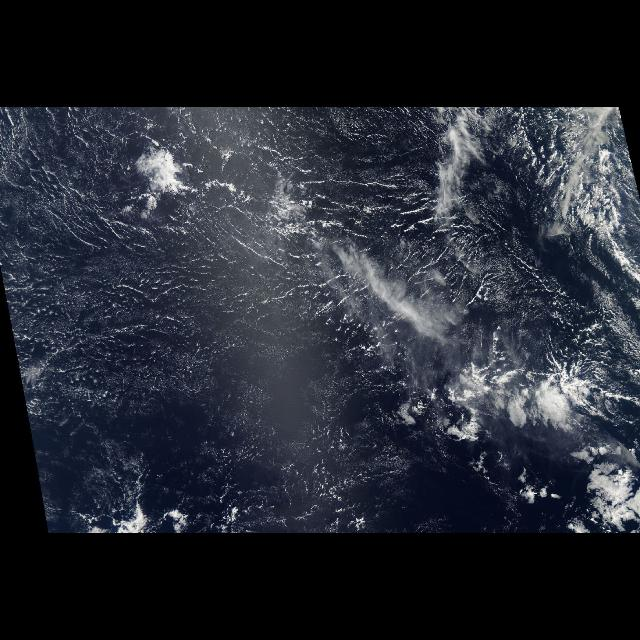Gravel: (6, 245, 272, 410)
Sugar: (38, 270, 332, 406)
